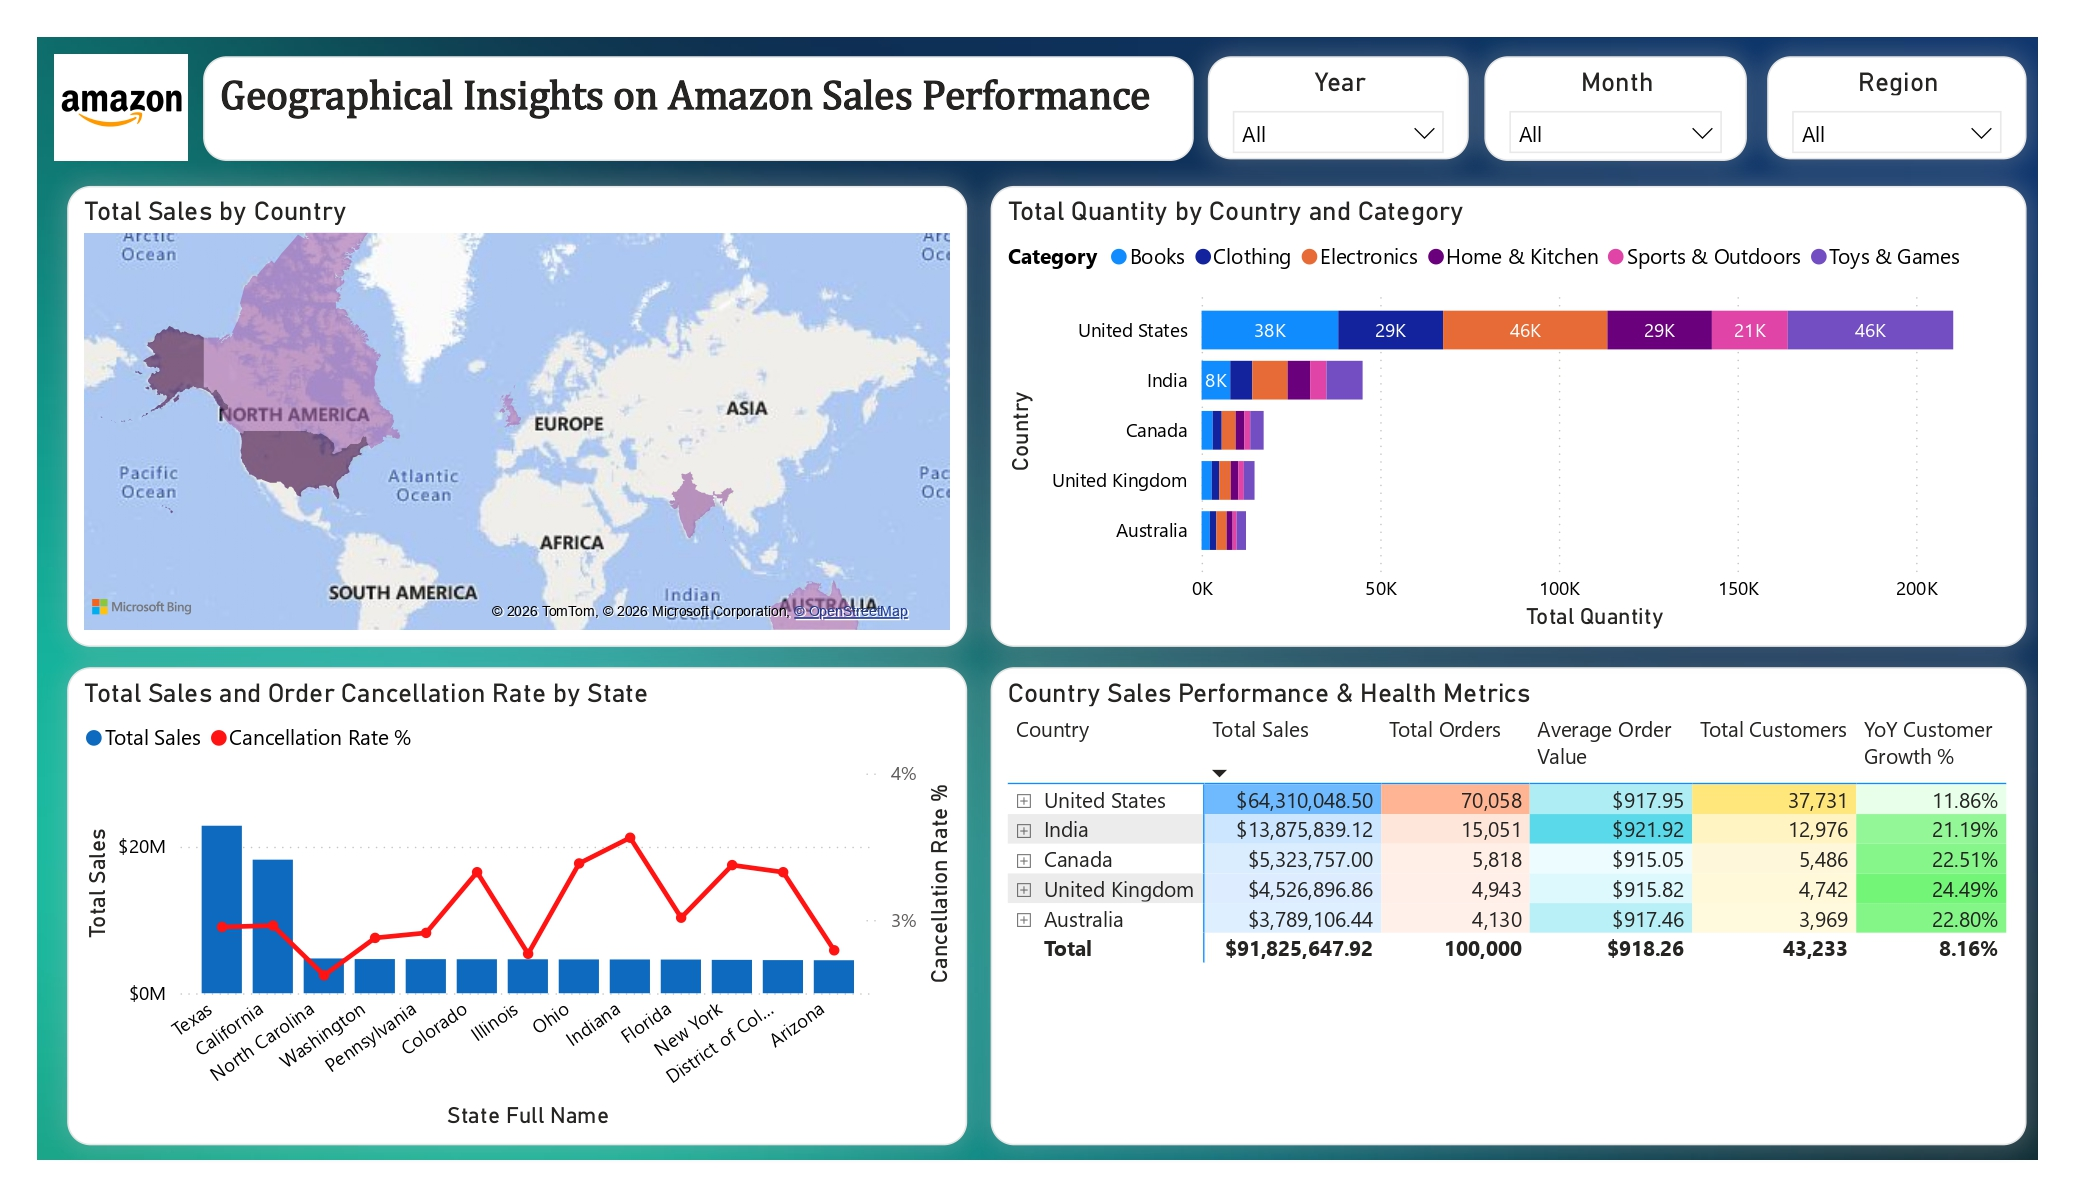

The page's visual inventory and layout, read from the dashboard file:
{"tool":"powerbi","page":{"name":"Geographical Insights","canvas":[1280,720],"ordinal":2},"visuals":[{"type":"filledMap","fields":{"Category":["Dim_Location.Country"]},"box":[19,95,576,295],"z":0},{"type":"pivotTable","title":"Country Sales Performance & Health Metrics","fields":{"Rows":["Dim_Location.Country","Dim_Location.State"],"Values":["_All Measures.Total Sales","_All Measures.Total Orders","_All Measures.Average Order Value","_All Measures.Total Customers","_All Measures.YoY Customer Growth %"]},"box":[610,403,663,306],"z":1000},{"type":"slicer","title":"Year","fields":{"Values":["Dim_Date.Year"]},"box":[749,12,167,66],"z":2000},{"type":"slicer","title":"Month","fields":{"Values":["Dim_Date.Month No"]},"box":[926,12,168,67],"z":3000},{"type":"slicer","title":"Region","fields":{"Values":["Dim_Location.Country"]},"box":[1107,12,166,66],"z":4000},{"type":"lineClusteredColumnComboChart","title":"Total Sales and Order Cancellation Rate by State ","fields":{"Y":["_All Measures.Total Sales"],"Y2":["_All Measures.Cancellation Rate %"],"Category":["Dim_Location.State Full Name"]},"box":[19.5,402.7,575.8,306.4],"z":5000},{"type":"barChart","fields":{"Category":["Dim_Location.Country"],"Y":["_All Measures.Total Quantity"],"Series":["Dim_Product.Category"]},"box":[610,95,663,295],"z":6000},{"type":"textbox","box":[106,12,634,67],"z":7000},{"type":"image","box":[11,11,85,68],"z":8000}]}

Visuals, with their boxes in screenshot pixels (x1, y1, x2, y2):
filledMap - Dim_Location.Country: <region>25, 173, 946, 645</region>
"Country Sales Performance & Health Metrics" pivotTable: <region>970, 666, 2030, 1155</region>
"Year" slicer: <region>1192, 41, 1459, 146</region>
"Month" slicer: <region>1475, 41, 1744, 148</region>
"Region" slicer: <region>1764, 41, 2030, 146</region>
"Total Sales and Order Cancellation Rate by State " lineClusteredColumnComboChart: <region>26, 665, 946, 1155</region>
barChart - Dim_Location.Country x _All Measures.Total Quantity: <region>970, 173, 2030, 645</region>
textbox: <region>164, 41, 1178, 148</region>
image: <region>12, 39, 148, 148</region>
